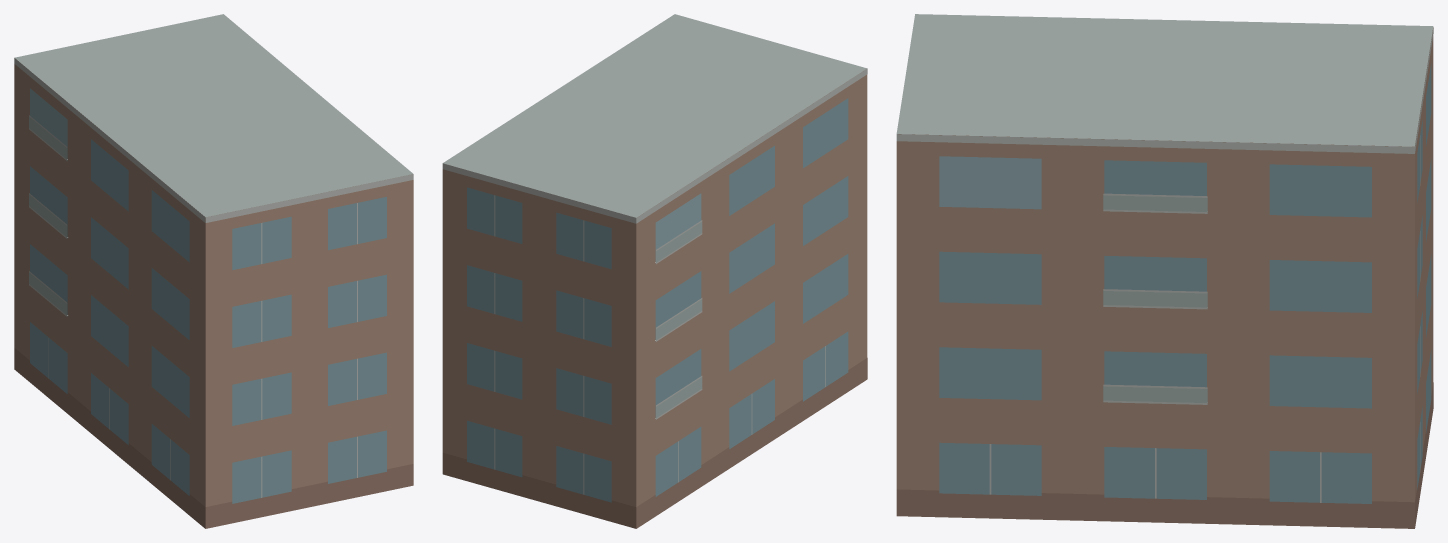
The model's file is survey-upis-33018544.glb.
3 renders of one model, left to right at view 1: azimuth 30°, elevation 25°; view 2: azimuth 150°, elevation 25°; view 3: azimuth 270°, elevation 25°, orthographic. The views are drawn at different scales.
Visible parts, largest first — view 1: survey-upis-33018544.tmp; view 2: survey-upis-33018544.tmp; view 3: survey-upis-33018544.tmp.
Part boxes in pixels (<box>): survey-upis-33018544.tmp: <box>14,14,413,528</box>; survey-upis-33018544.tmp: <box>442,14,867,528</box>; survey-upis-33018544.tmp: <box>896,14,1433,528</box>.
Bounding box in the file's own units: 9.62 × 12.9 × 16.44.
